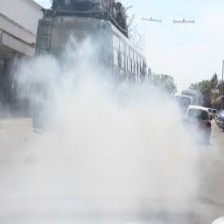smoke: (52, 83, 187, 223)
